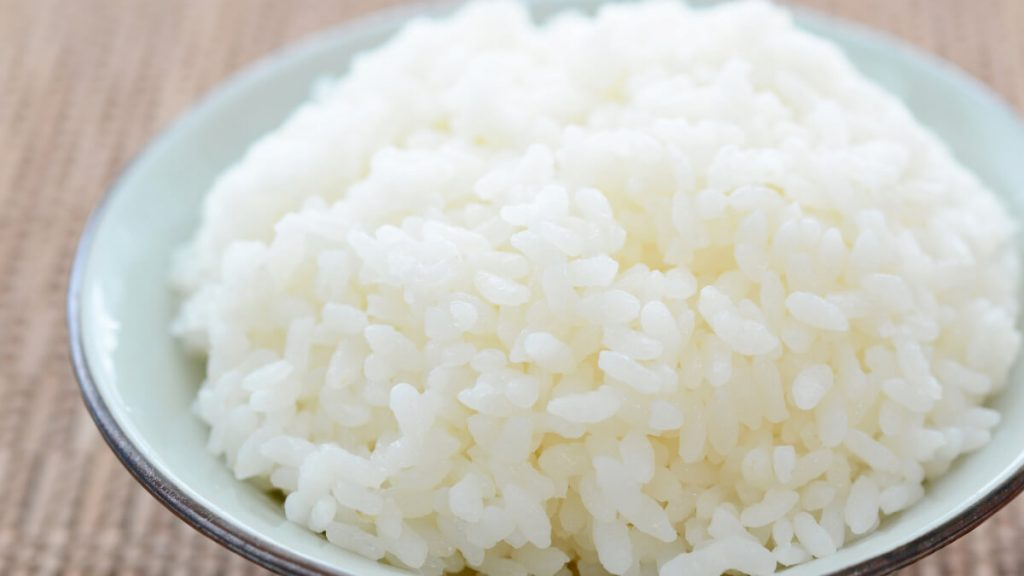Nasi Putih: (91, 8, 1010, 562)
